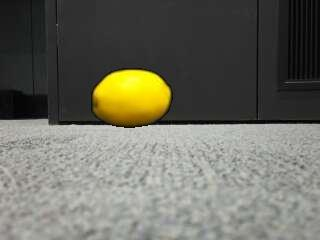lemon: (93, 70, 171, 127)
